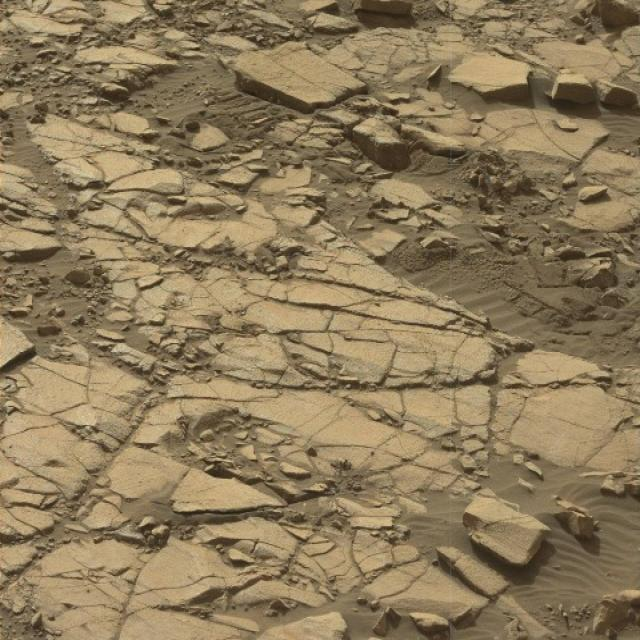rock: (462, 492, 554, 569), (448, 48, 535, 104), (550, 71, 593, 108)
